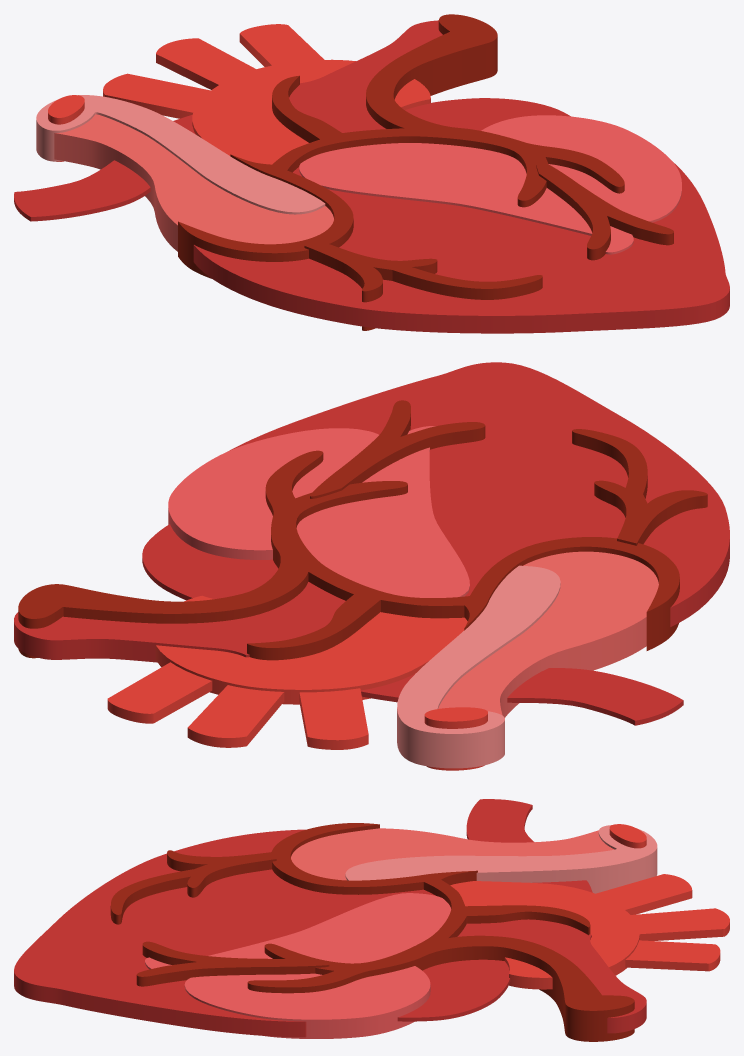
The model's file is emoji_u1fac0.glb.
3 renders of one model, top to bottom at view 1: azimuth 30°, elevation 25°; view 2: azimuth 150°, elevation 25°; view 3: azimuth 270°, elevation 25°, orthographic. The views are drawn at different scales.
Visible parts, largest first — view 1: emoji_u1fac0; view 2: emoji_u1fac0; view 3: emoji_u1fac0.
Part boxes in pixels (x1,y1,x2,y2): emoji_u1fac0: (14,14,729,333); emoji_u1fac0: (14,362,729,770); emoji_u1fac0: (14,799,729,1041).
Size of the model in its own units: 0.0253 by 0.002 by 0.0335.
